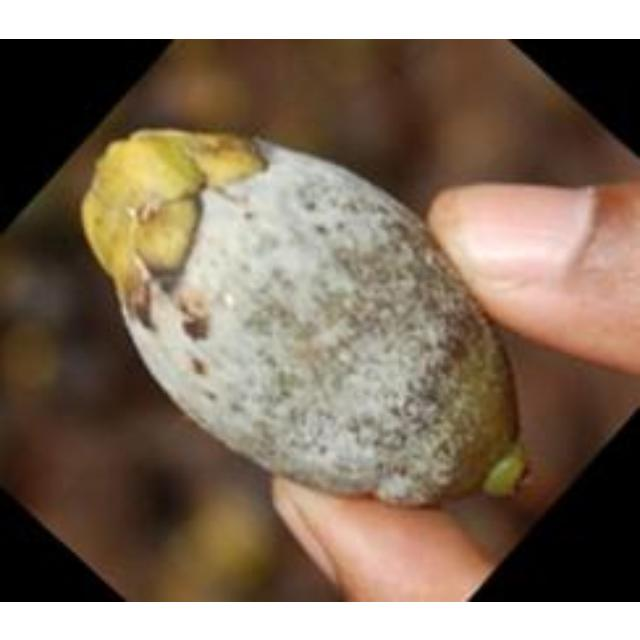damaged: (81, 130, 522, 502)
